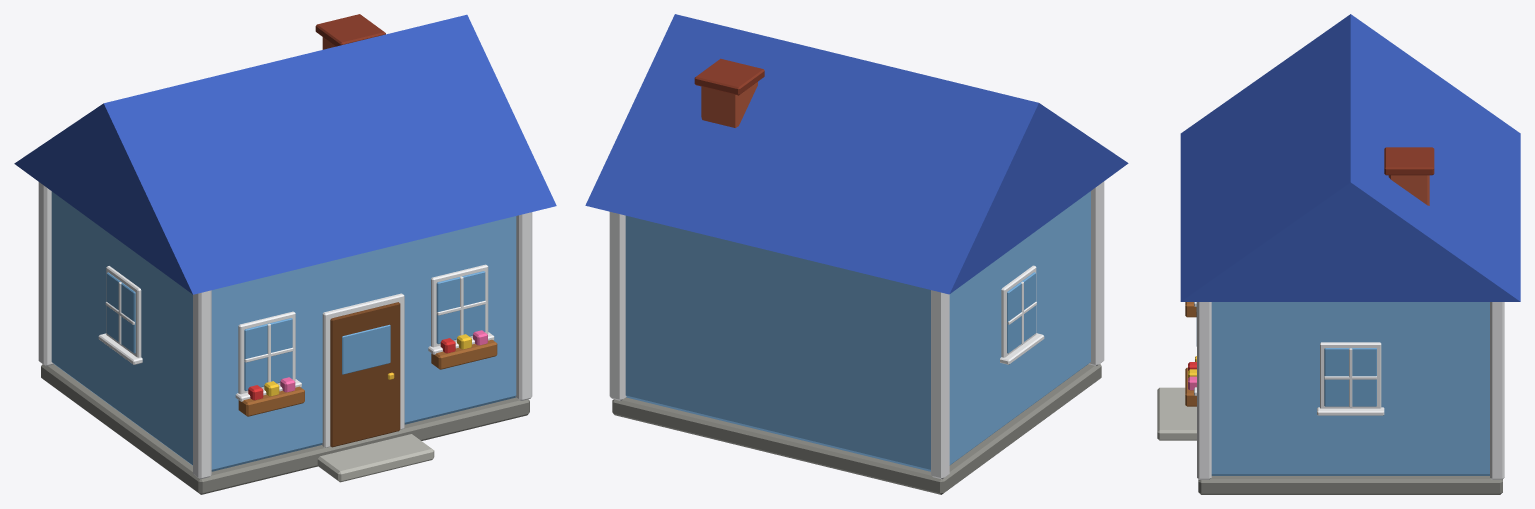
Rendered from BlueHouse.fbx.
The picture shows the model from 3 angles, left to right: view 1: azimuth 30°, elevation 25°; view 2: azimuth 150°, elevation 25°; view 3: azimuth 270°, elevation 25°; orthographic projection. The views are drawn at different scales.
Parts seen in each view (by area): view 1: BlueHouse; view 2: BlueHouse; view 3: BlueHouse.
Boxes of the visible parts, x1,y1,x2,y2 form: BlueHouse: (14,14,556,494); BlueHouse: (585,14,1128,494); BlueHouse: (1157,14,1520,494).
Bounding box in the file's own units: 13.6 × 12.1 × 12.4.
1 material, 1 textured.
